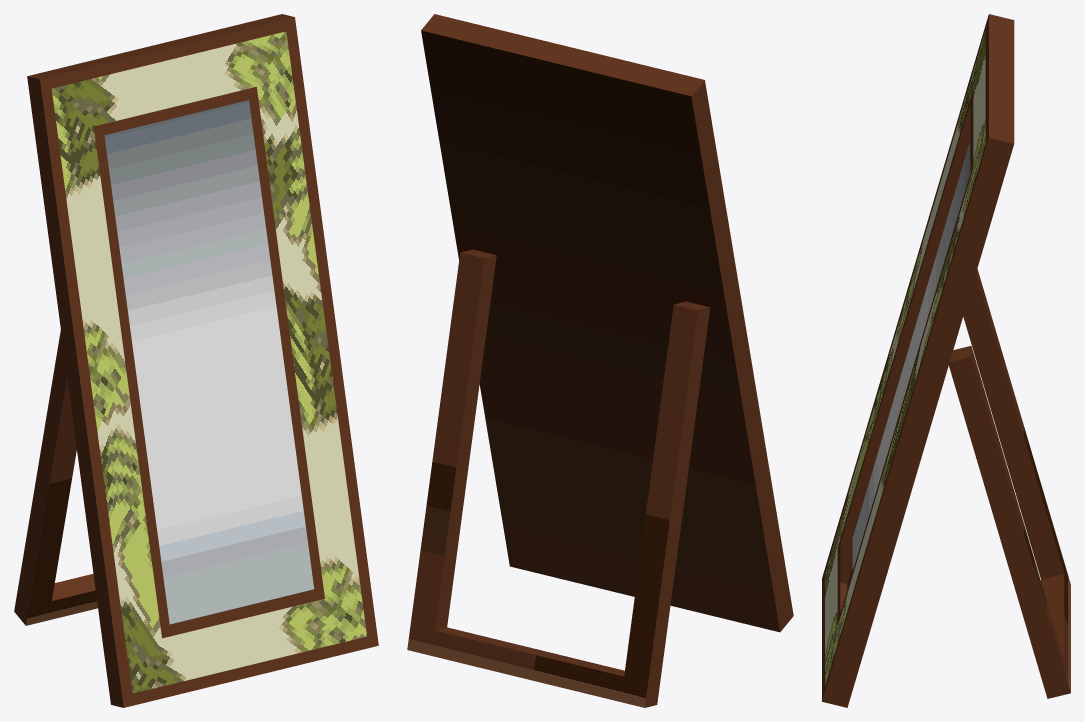
3 renders of one model, left to right at view 1: azimuth 30°, elevation 25°; view 2: azimuth 150°, elevation 25°; view 3: azimuth 270°, elevation 25°, orthographic. The views are drawn at different scales.
Parts seen in each view (by area): view 1: 3917kg3_gs19; view 2: 3917kg3_gs19; view 3: 3917kg3_gs19.
Boxes of the visible parts, x1,y1,x2,y2 form: 3917kg3_gs19: [14, 14, 378, 707]; 3917kg3_gs19: [407, 14, 793, 707]; 3917kg3_gs19: [822, 14, 1070, 707].
Bounding box in the file's own units: 0.8452 × 1.82 × 0.7178.
3 materials, 3 textured.
